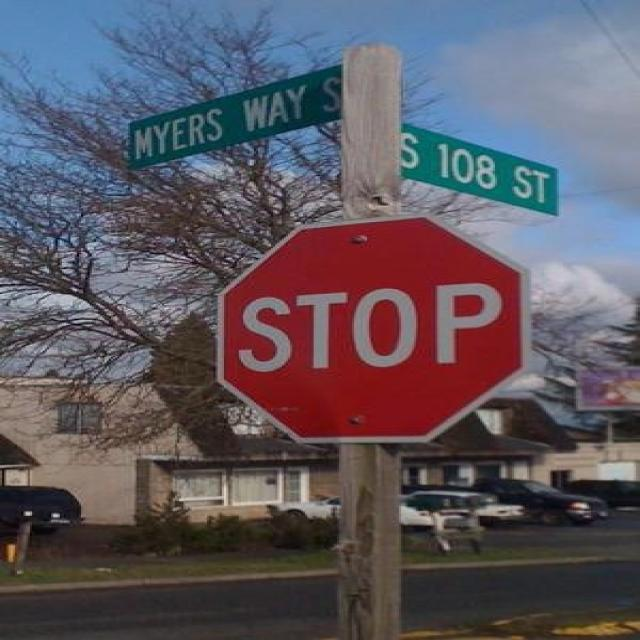stop: (214, 213, 530, 445)
